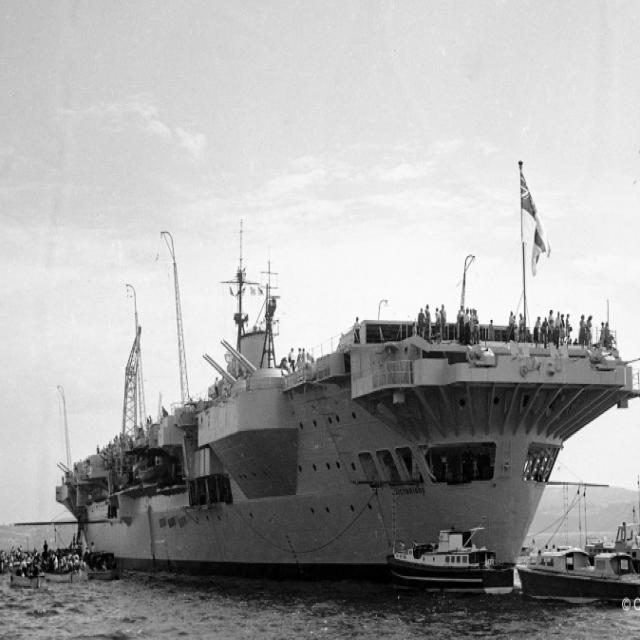Portanaves: (50, 149, 640, 597)
